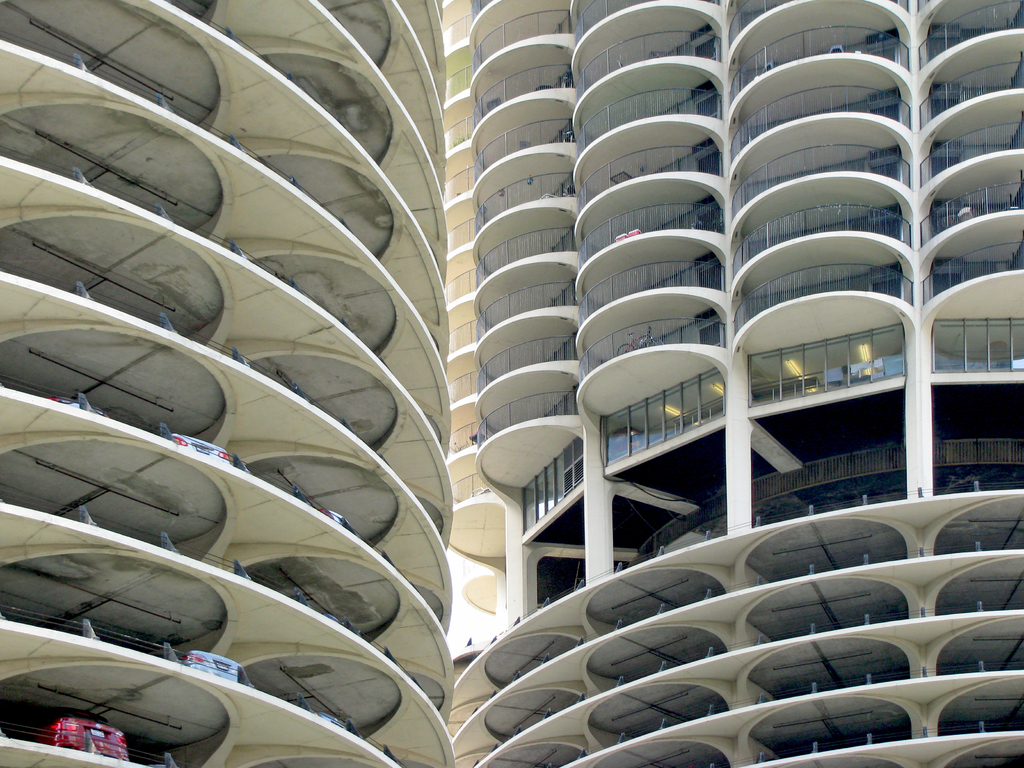Car: (43, 715, 131, 760), (183, 649, 248, 684), (170, 431, 232, 465), (47, 396, 106, 420), (314, 504, 350, 526), (322, 711, 347, 730)
